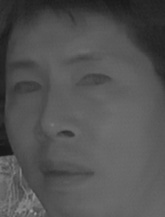eye: (71, 69, 112, 93), (7, 78, 45, 98)
mouth: (36, 152, 95, 187)
